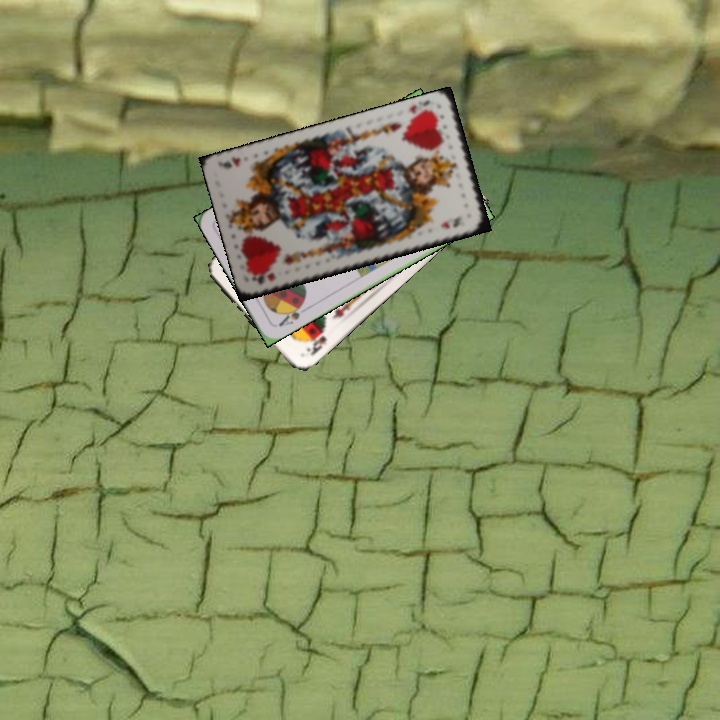HK: (405, 96, 433, 116), (249, 269, 278, 287)
SA: (275, 298, 310, 330)
SK: (302, 324, 329, 358)
